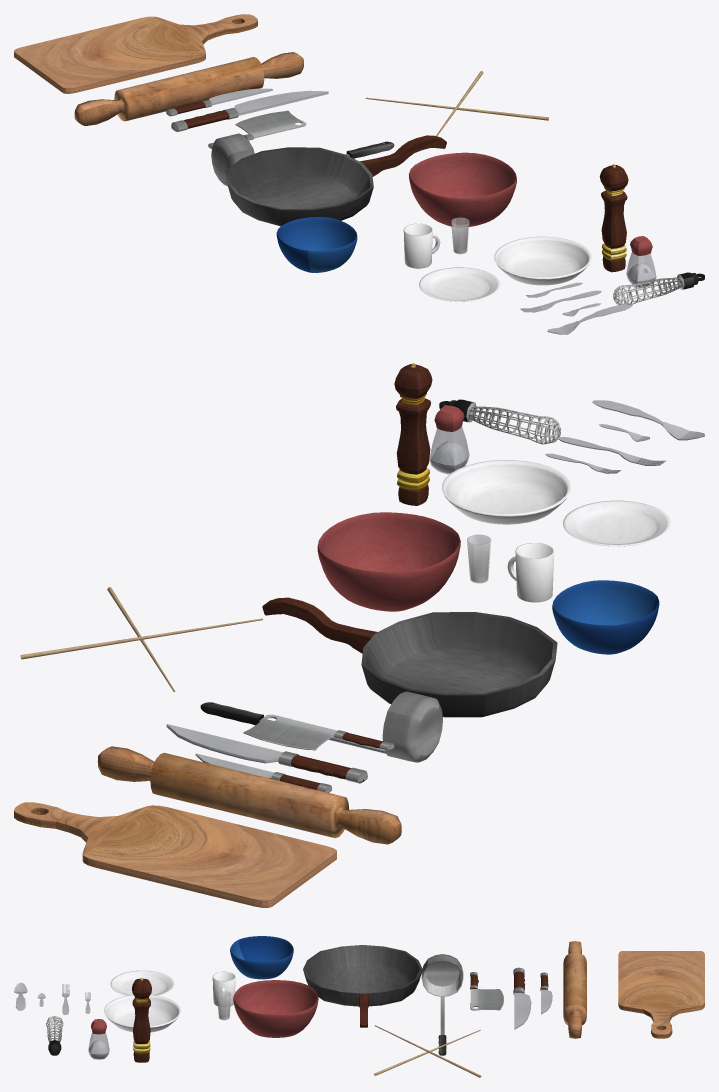
File: kitchen.fbx
3 views of the same model, one above another, from view 1: azimuth 30°, elevation 25°; view 2: azimuth 150°, elevation 25°; view 3: azimuth 270°, elevation 25° (orthographic). The views are drawn at different scales.
Parts seen in each view (by area): view 1: Cube.014, Cube.002, Cube.003, Cube.016, Cylinder.003, Cube.015, Cube.012, Cylinder.002, Cube.013, Cube.022, Cube.007, Cylinder (+6 smaller); view 2: Cube.014, Cube.002, Cube.003, Cube.016, Cylinder.003, Cube.015, Cube.013, Cube.012, Cylinder.002, Cube.022, Cube.008, Cylinder (+6 smaller); view 3: Cube.014, Cube.002, Cube.016, Cube.015, Cube.003, Cube.013, Cylinder.003, Cube.012, Cylinder.002, Cube.008, Cube.022, Cube.011 (+7 smaller).
Part boxes in pixels (x1,y1,x2,y2): Cube.014: (225,135,446,226); Cube.002: (14,14,257,93); Cube.003: (74,52,303,125); Cube.016: (408,152,516,226); Cylinder.003: (494,236,591,285); Cube.015: (276,217,357,272); Cube.012: (599,164,628,272); Cylinder.002: (419,267,500,301); Cube.013: (211,133,394,186); Cube.022: (171,90,328,131); Cube.007: (613,272,704,304); Cylinder: (403,223,440,268); Cube.014: (262,597,557,717); Cube.002: (14,802,336,907); Cube.003: (97,746,401,844); Cube.016: (317,512,460,611); Cylinder.003: (441,460,571,524); Cube.015: (552,580,659,654); Cube.013: (200,691,442,762); Cube.012: (394,363,432,505); Cylinder.002: (563,500,670,546); Cube.022: (166,724,367,783); Cube.008: (243,714,394,750); Cylinder: (507,543,554,602); Cube.014: (303,945,422,1027); Cube.002: (618,951,704,1038); Cube.016: (233,980,318,1037); Cube.015: (230,936,293,979); Cube.003: (563,941,586,1038); Cube.013: (421,954,463,1055); Cylinder.003: (104,994,181,1032); Cube.012: (132,978,151,1062); Cylinder.002: (110,970,174,995); Cube.008: (470,972,503,1010); Cube.022: (513,967,531,1029); Cube.011: (88,1019,109,1059).
Size of the model in its own units: 5977 by 1905 by 13098.
12 materials, 12 textured.
